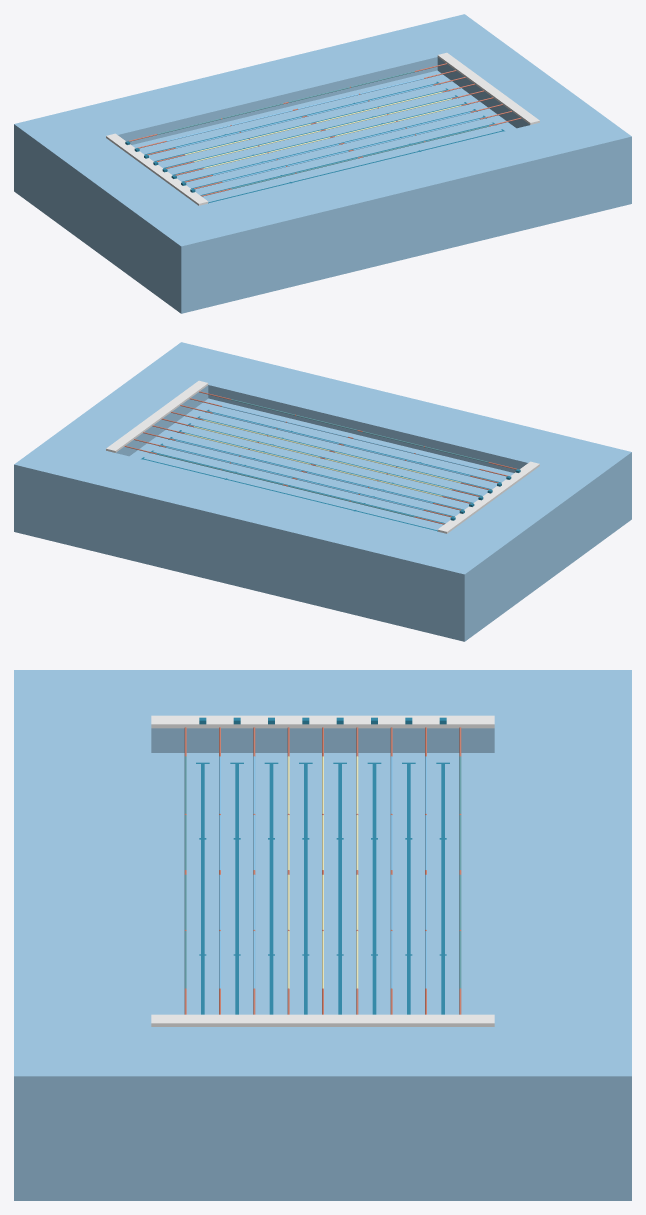
The model's file is pool.gltf.
The picture shows the model from 3 angles, top to bottom: view 1: azimuth 30°, elevation 25°; view 2: azimuth 150°, elevation 25°; view 3: azimuth 270°, elevation 25°; orthographic projection. The views are drawn at different scales.
Size of the model in its own units: 70 by 10.6 by 45.
